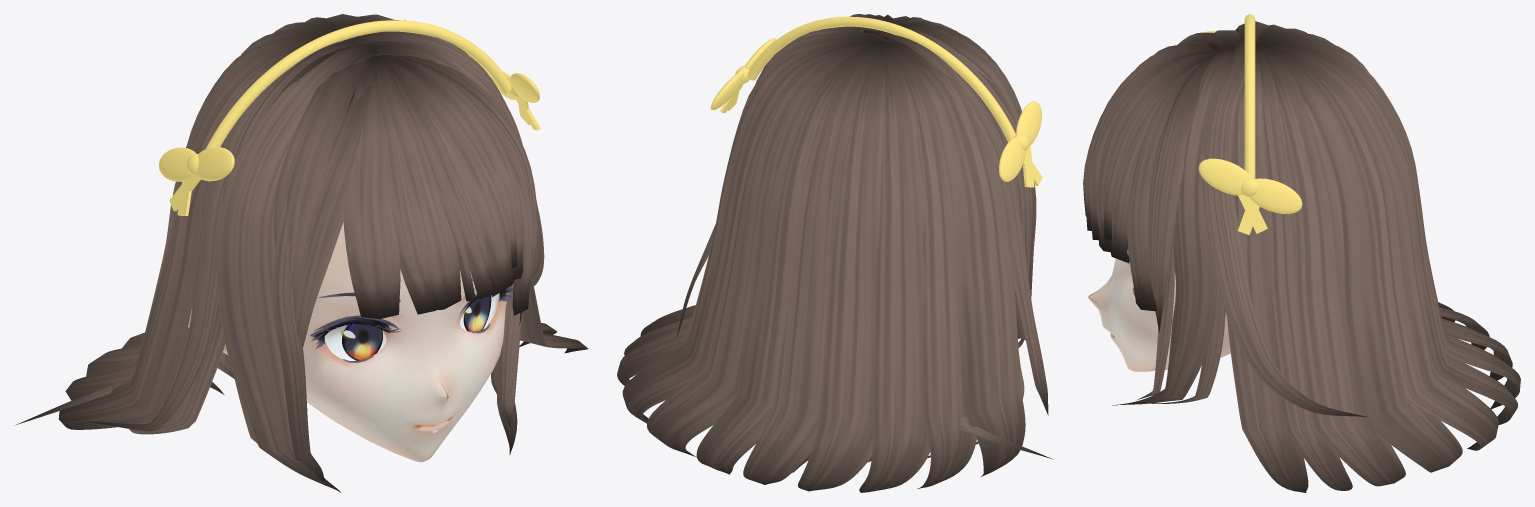
File: imprint-echo.glb
3 renders of one model, left to right at view 1: azimuth 30°, elevation 25°; view 2: azimuth 150°, elevation 25°; view 3: azimuth 270°, elevation 25°, orthographic. The views are drawn at different scales.
Visible parts, largest first — view 1: Echo_Hair, Echo_Face, Echo_Headband, Echo_RibbonRightWingFront, Echo_RibbonRightWingBack; view 2: Echo_Hair, Echo_Headband, Echo_RibbonRightWingBack, Echo_RibbonRightWingFront, Echo_RibbonLeftWingBack; view 3: Echo_Hair, Echo_Face, Echo_Headband, Echo_RibbonLeftWingFront, Echo_RibbonLeftWingBack, Echo_RibbonLeftTailFront.
Boxes of the visible parts, x1=… form: Echo_Hair: x1=15, y1=14, x2=588, y2=492; Echo_Face: x1=188, y1=222, x2=513, y2=462; Echo_Headband: x1=205, y1=20, x2=511, y2=149; Echo_RibbonRightWingFront: x1=196, y1=147, x2=234, y2=181; Echo_RibbonRightWingBack: x1=159, y1=147, x2=196, y2=181; Echo_Hair: x1=617, y1=14, x2=1053, y2=492; Echo_Headband: x1=747, y1=16, x2=1015, y2=141; Echo_RibbonRightWingBack: x1=999, y1=137, x2=1025, y2=181; Echo_RibbonRightWingFront: x1=1016, y1=101, x2=1041, y2=145; Echo_RibbonLeftWingBack: x1=710, y1=70, x2=744, y2=110; Echo_Hair: x1=1083, y1=21, x2=1520, y2=492; Echo_Face: x1=1088, y1=249, x2=1230, y2=371; Echo_Headband: x1=1244, y1=14, x2=1255, y2=178; Echo_RibbonLeftWingFront: x1=1198, y1=158, x2=1251, y2=195; Echo_RibbonLeftWingBack: x1=1249, y1=178, x2=1302, y2=213; Echo_RibbonLeftTailFront: x1=1238, y1=195, x2=1267, y2=233.
Size of the model in its own units: 2.94 by 2.39 by 2.44.
Materials: 21 (10 with a texture image).
